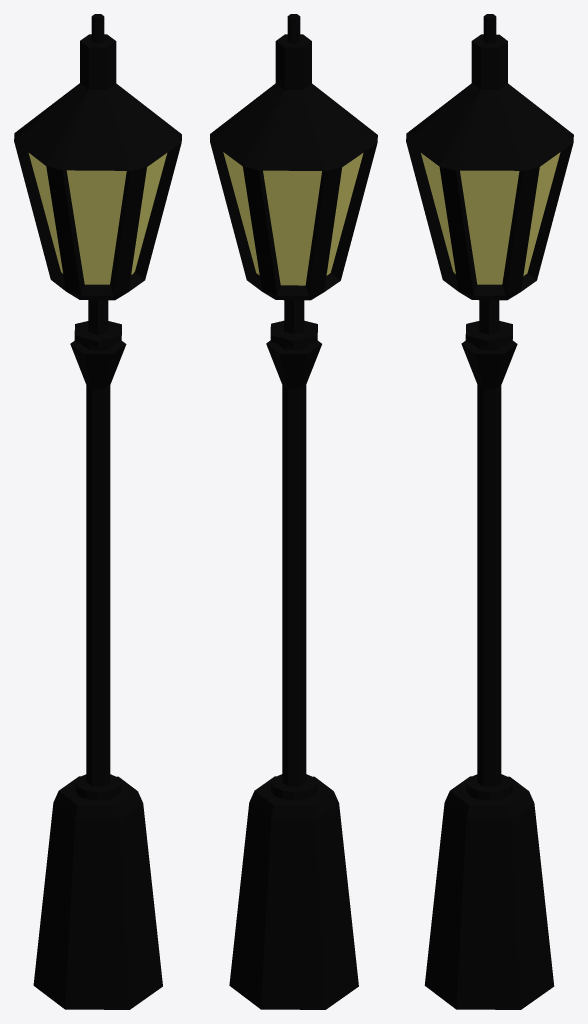
Rendered from lamp.fbx.
3 views of the same model, side by side, from view 1: azimuth 30°, elevation 25°; view 2: azimuth 150°, elevation 25°; view 3: azimuth 270°, elevation 25° (orthographic).
Parts seen in each view (by area): view 1: lamp; view 2: lamp; view 3: lamp.
Part boxes in pixels (x1,y1,x2,y2): lamp: (14, 14, 181, 1009); lamp: (210, 14, 377, 1009); lamp: (406, 14, 573, 1009).
Bounding box in the file's own units: 25.68 × 177 × 27.7.
